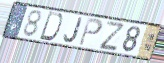8: (21, 9, 43, 39), (121, 26, 141, 53)
D: (38, 11, 64, 42)
J: (63, 17, 83, 44)
P: (77, 17, 104, 48)
Z: (97, 20, 125, 52)
